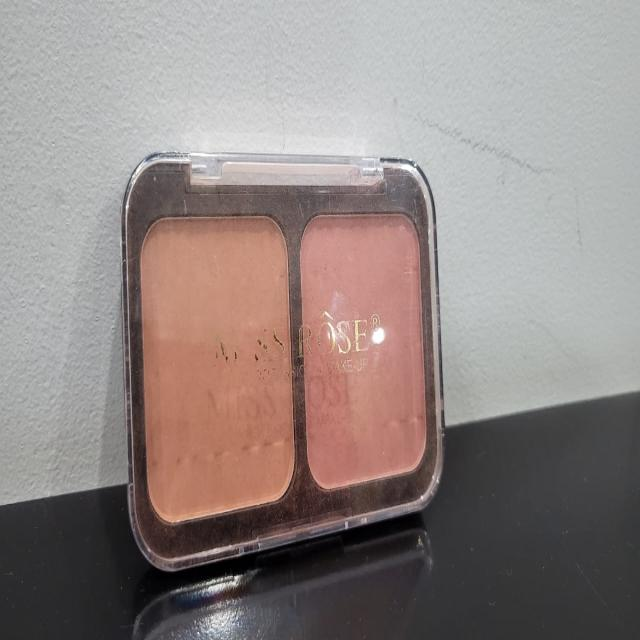bronzer: (132, 205, 300, 524), (294, 202, 432, 488)
